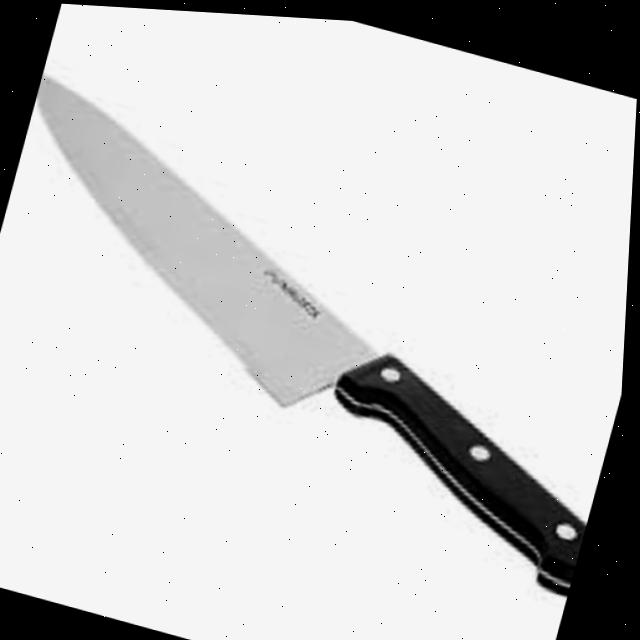knife: (0, 63, 637, 590)
